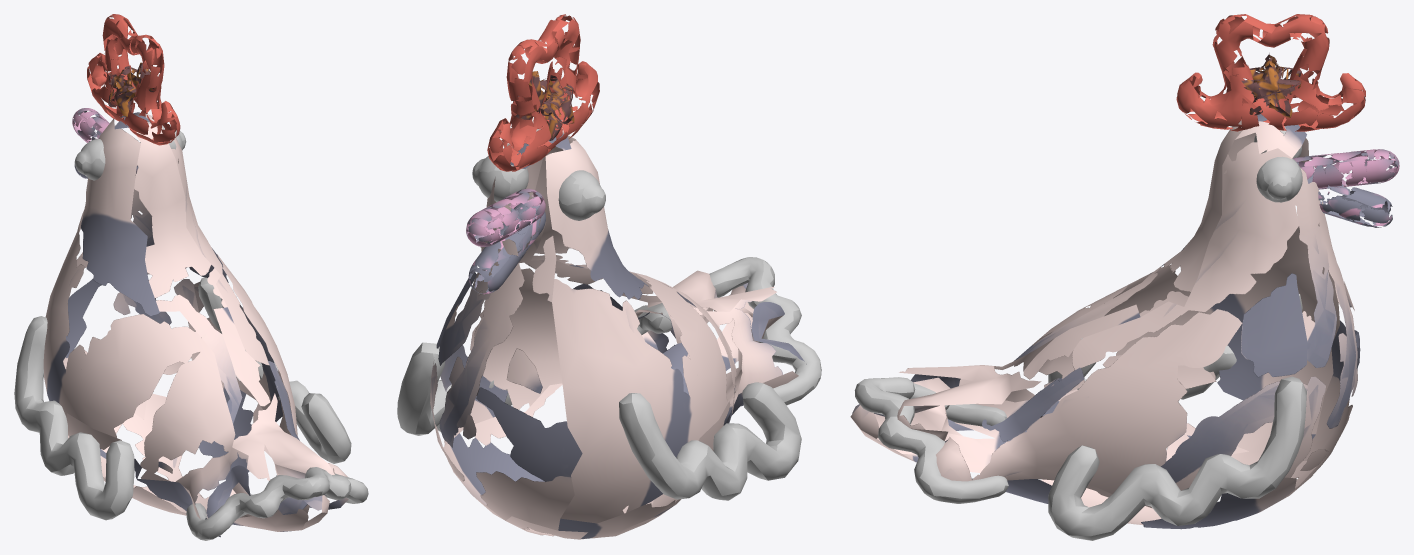
The model's file is chickentecktive.fbx.
The picture shows the model from 3 angles, left to right: view 1: azimuth 30°, elevation 25°; view 2: azimuth 150°, elevation 25°; view 3: azimuth 270°, elevation 25°; orthographic projection. The views are drawn at different scales.
Visible parts, largest first — view 1: body, wing_left, hat hat, tale_line, wing_right, hat star, eyes, beak_up; view 2: body, wing_left, hat hat, tale_line, wing_right, eyes, beak_up, beack_down, hat star; view 3: body, wing_right, hat hat, tale_line, beak_up, beack_down, hat star, eyes, wing_left.
Part boxes in pixels (bbox=[...]): body: bbox=[43, 112, 348, 537]; wing_left: bbox=[14, 316, 134, 520]; hat hat: bbox=[87, 14, 180, 145]; tale_line: bbox=[186, 467, 368, 540]; wing_right: bbox=[198, 277, 351, 463]; hat star: bbox=[108, 62, 158, 116]; eyes: bbox=[74, 125, 186, 180]; beak_up: bbox=[72, 108, 109, 142]; body: bbox=[430, 128, 806, 539]; wing_left: bbox=[619, 382, 801, 500]; hat hat: bbox=[487, 14, 599, 171]; tale_line: bbox=[634, 257, 821, 405]; wing_right: bbox=[397, 342, 511, 435]; eyes: bbox=[472, 156, 605, 220]; beak_up: bbox=[466, 188, 545, 246]; beack_down: bbox=[468, 203, 545, 294]; hat star: bbox=[513, 71, 574, 140]; body: bbox=[850, 114, 1360, 529]; wing_right: bbox=[1048, 376, 1306, 540]; hat hat: bbox=[1176, 14, 1365, 131]; tale_line: bbox=[854, 377, 1008, 503]; beak_up: bbox=[1293, 149, 1399, 189]; beack_down: bbox=[1307, 174, 1392, 227]; hat star: bbox=[1241, 53, 1301, 117]; eyes: bbox=[1254, 126, 1302, 202]; wing_left: bbox=[1048, 294, 1302, 399].
Bounding box in the file's own units: 154 × 254 × 252.
